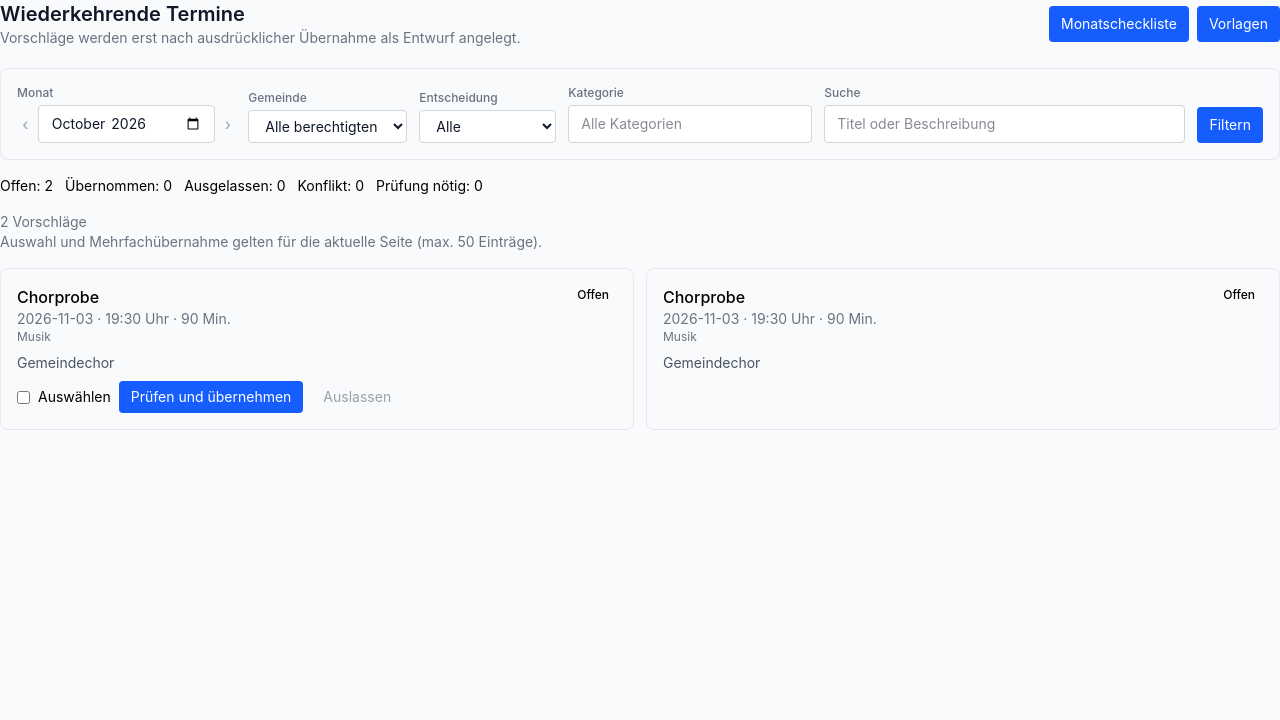
Test: recurring monthly checklist › allows congregation administrators to manage only their community
Click the button "Vorlagen": coordinates (1238, 24) x1=1197 y1=6 x2=1279 y2=42
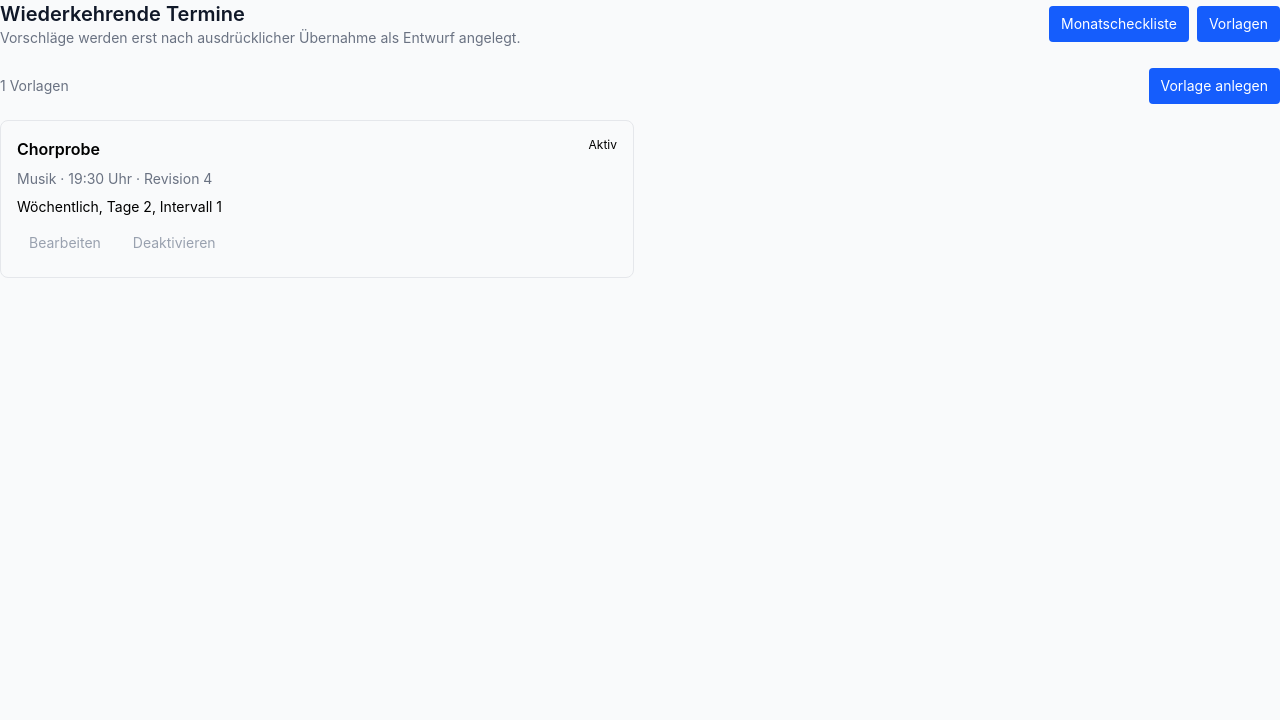
Click the button "Vorlage anlegen": coordinates (1214, 86) x1=1148 y1=68 x2=1279 y2=104
(page scrolled)
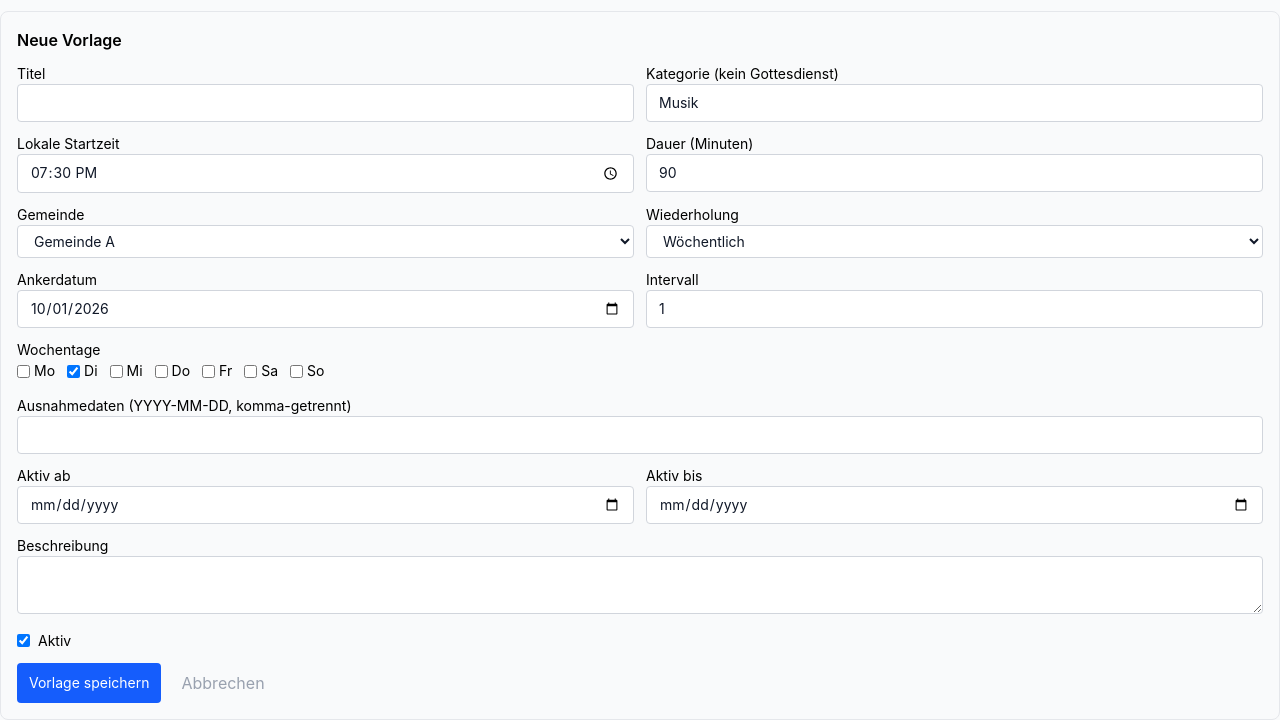
Now the form with test id "recurring-template-form" is shown
